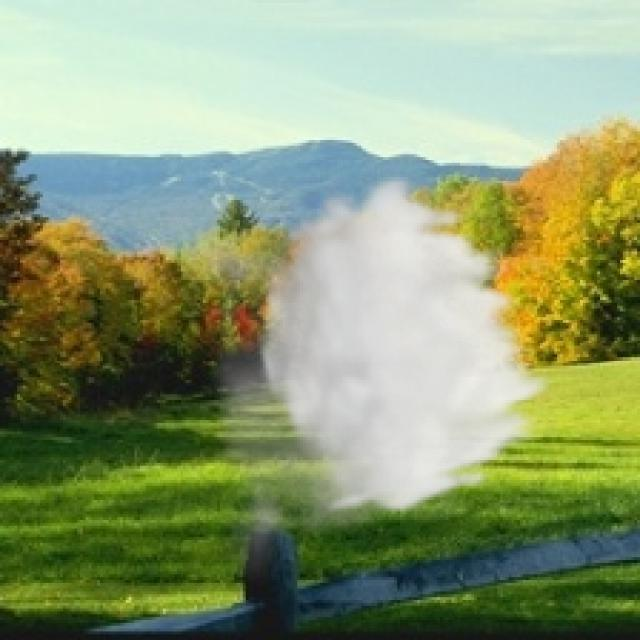Smoke: (185, 172, 560, 588)
